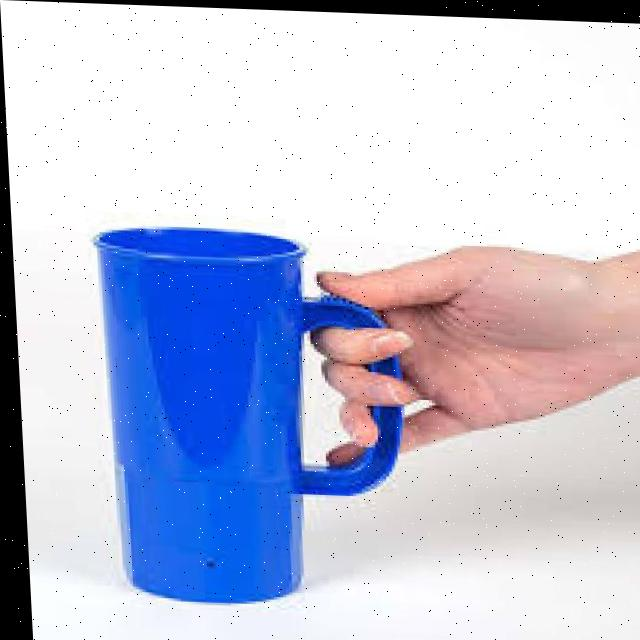cup: (58, 180, 379, 614)
